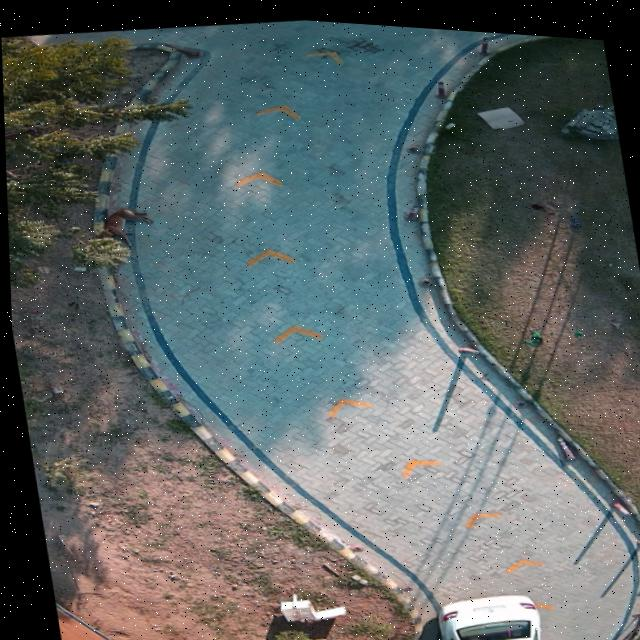car: (434, 588, 535, 640)
